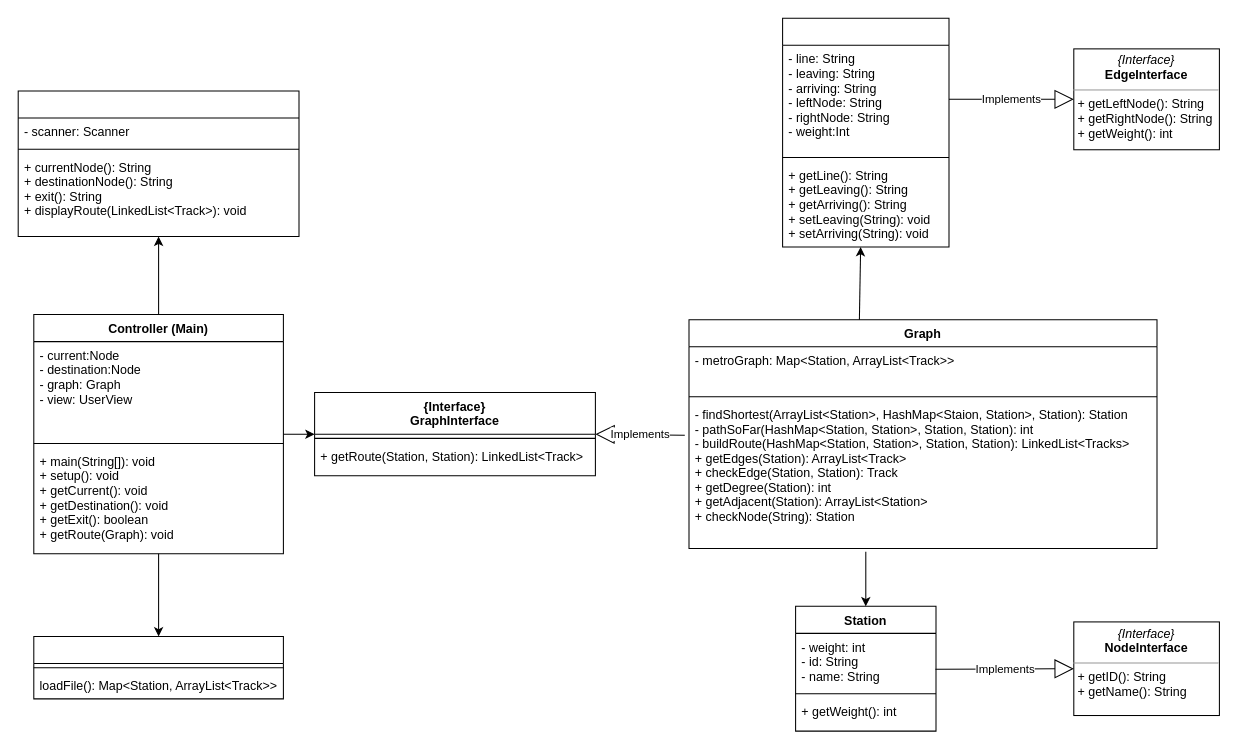
The diagram is 1238 pixels wide and 752 high, and some of its shapes have lost their labels. Here are the shapes that lost their labels. From the top down, the box of each, then its label:
(782, 17, 949, 247): Track
(17, 90, 299, 237): UserView
(33, 635, 283, 699): Parser
